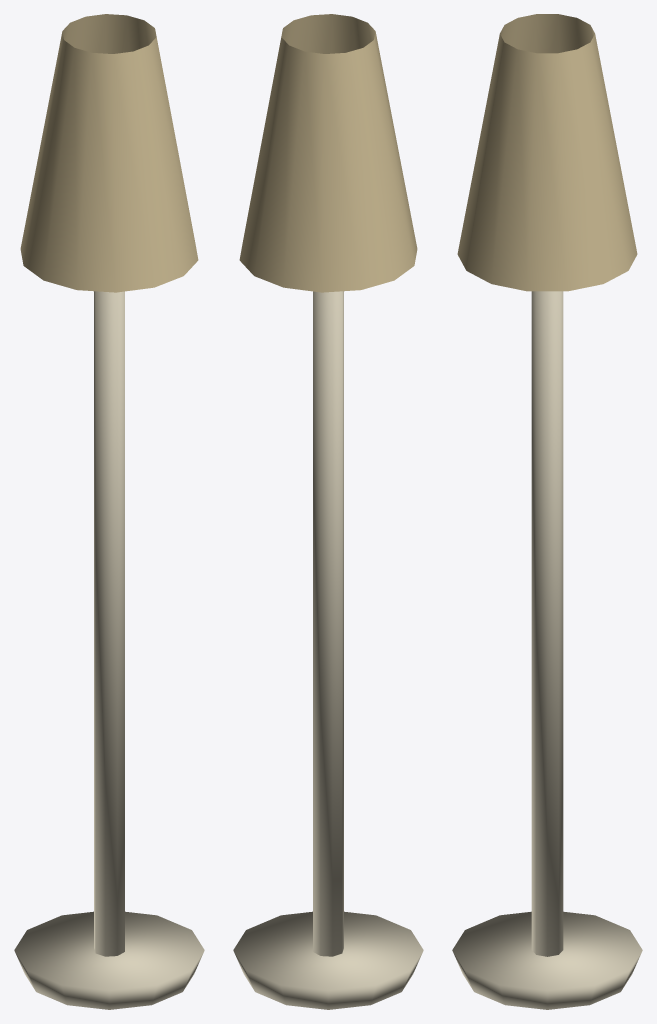
The model's file is bone_lamp_v0.glb.
3 views of the same model, side by side, from view 1: azimuth 30°, elevation 25°; view 2: azimuth 150°, elevation 25°; view 3: azimuth 270°, elevation 25° (orthographic).
Visible parts, largest first — view 1: bone_lamp_v0; view 2: bone_lamp_v0; view 3: bone_lamp_v0.
Part boxes in pixels (x1,y1,x2,y2): bone_lamp_v0: [14, 14, 204, 1009]; bone_lamp_v0: [233, 14, 423, 1009]; bone_lamp_v0: [452, 14, 642, 1009].
Bounding box in the file's own units: 0.36 × 1.96 × 0.36.
